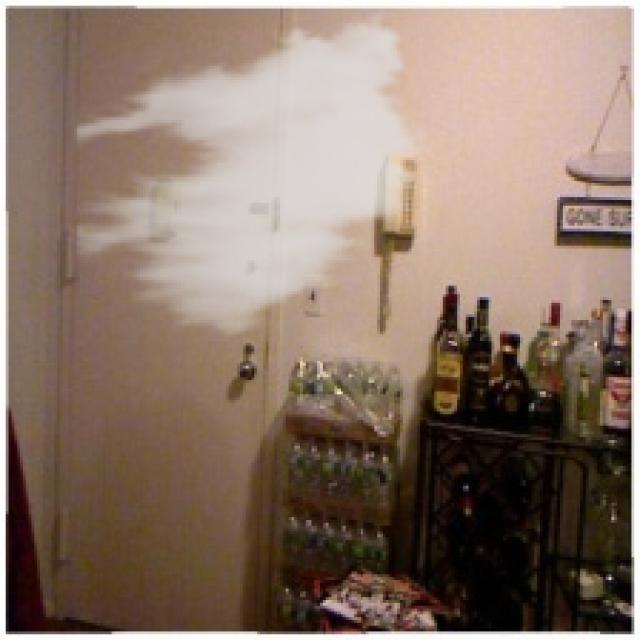smoke: (74, 3, 434, 346)
